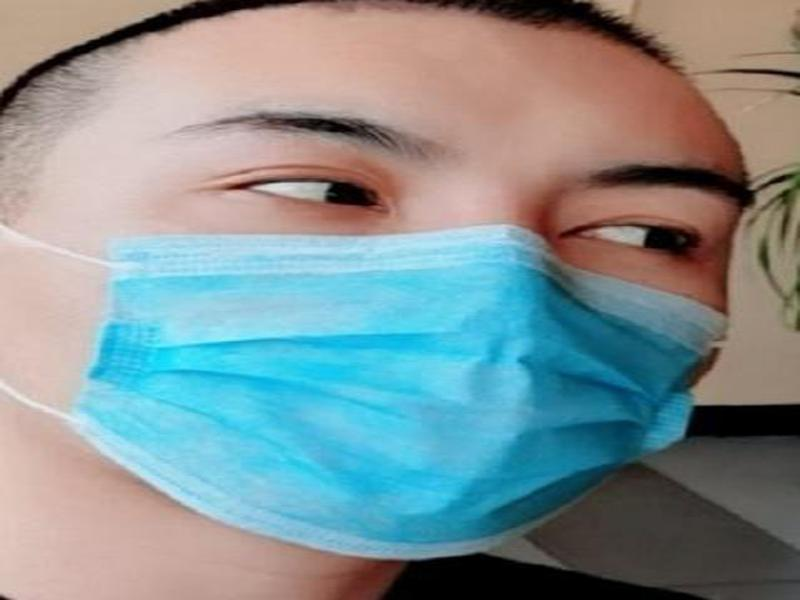with_mask: (1, 1, 757, 570)
